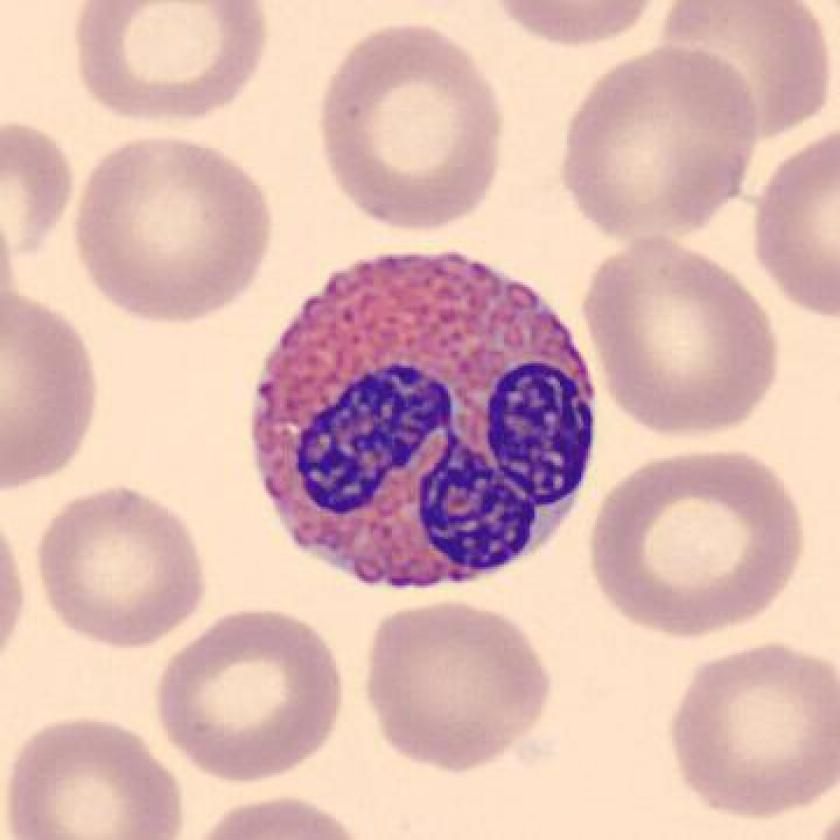eosinophil: (241, 239, 615, 612)
